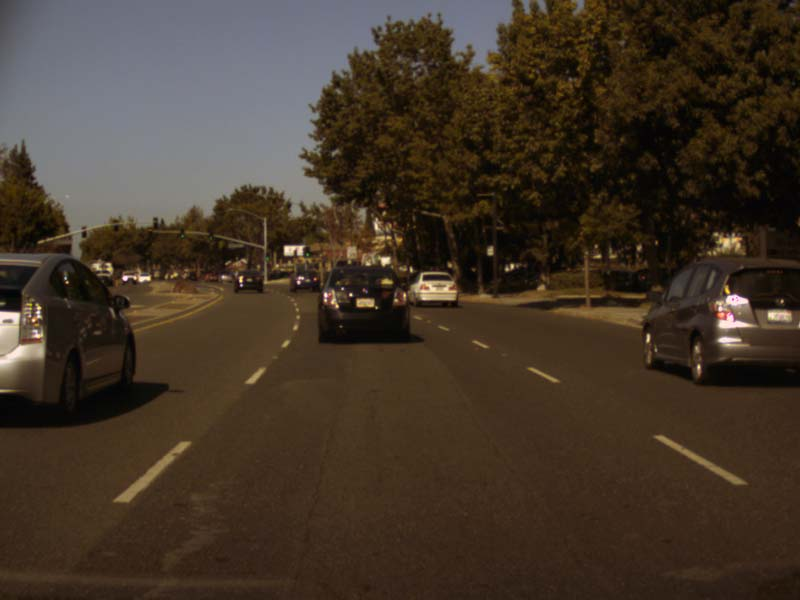Green: (180, 228, 184, 238), (265, 251, 269, 260), (305, 247, 309, 256), (209, 231, 212, 240)
Red: (147, 228, 151, 238)
